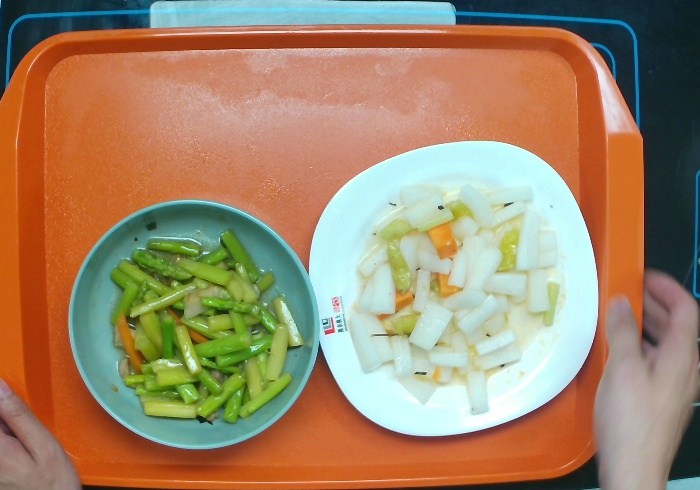ZNLD-Qing_Hua_Yuan_Wan: (57, 187, 332, 461)
ZNLD-Yuan_Jiao_Pan: (297, 121, 626, 444)
